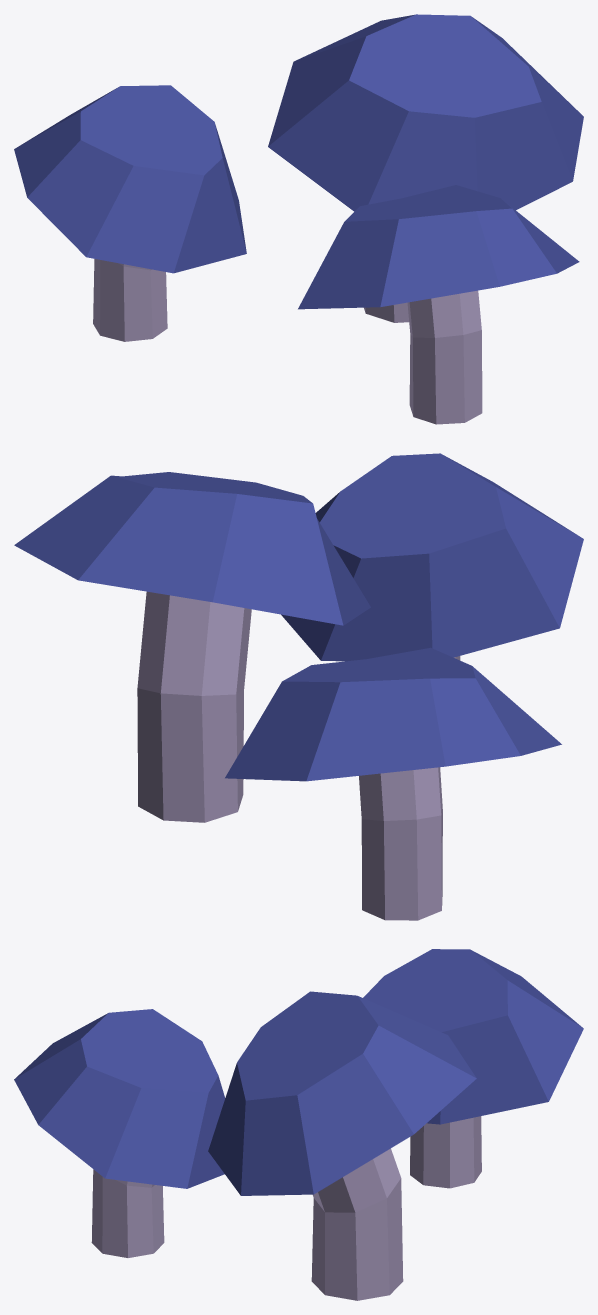
Rendered from Mushrooms.fbx.
The picture shows the model from 3 angles, top to bottom: view 1: azimuth 30°, elevation 25°; view 2: azimuth 150°, elevation 25°; view 3: azimuth 270°, elevation 25°; orthographic projection. The views are drawn at different scales.
Parts seen in each view (by area): view 1: Cylinder, Cylinder.002, Cylinder.001; view 2: Cylinder, Cylinder.002, Cylinder.001; view 3: Cylinder, Cylinder.001, Cylinder.002.
Boxes of the visible parts, x1=… form: Cylinder: x1=268, y1=14, x2=583, y2=322; Cylinder.002: x1=14, y1=85, x2=246, y2=341; Cylinder.001: x1=298, y1=185, x2=579, y2=424; Cylinder: x1=14, y1=472, x2=370, y2=822; Cylinder.002: x1=225, y1=647, x2=561, y2=920; Cylinder.001: x1=281, y1=453, x2=583, y2=661; Cylinder: x1=208, y1=991, x2=476, y2=1300; Cylinder.001: x1=14, y1=1009, x2=225, y2=1257; Cylinder.002: x1=363, y1=949, x2=583, y2=1188.
Bounding box in the file's own units: 111 × 60.41 × 117.
